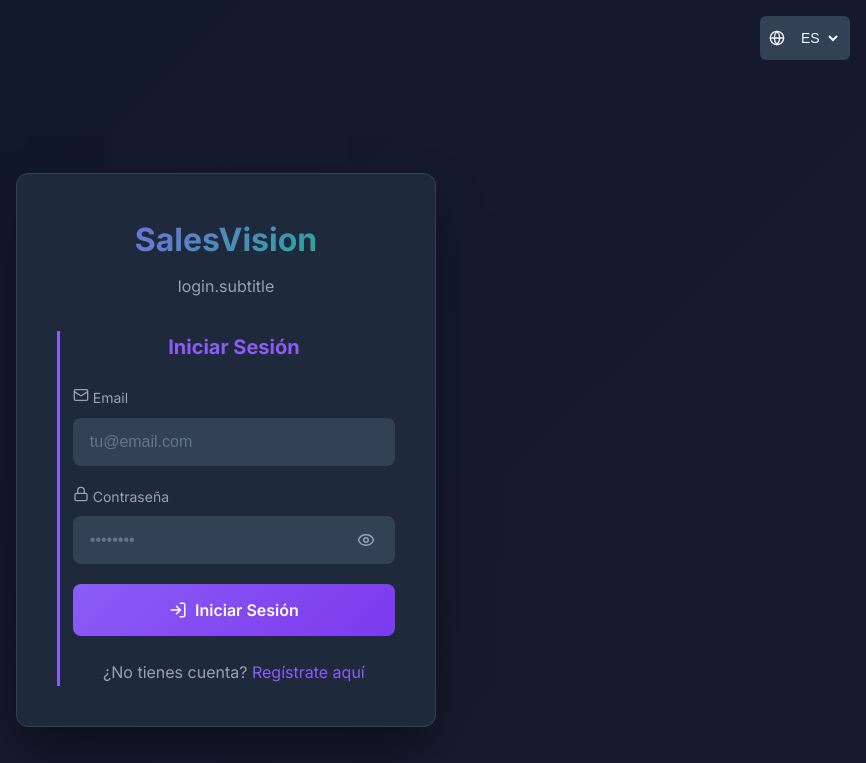
Test: Login Component › cambia entre modo login y registro
Expected: the heading "Iniciar Sesión" is shown, x1=168 y1=335 x2=300 y2=359
What coordinates should you click on to do the following:
click the button "Regístrate aquí"
I would click on:
 (308, 672)
Its box is x1=252 y1=662 x2=365 y2=682.
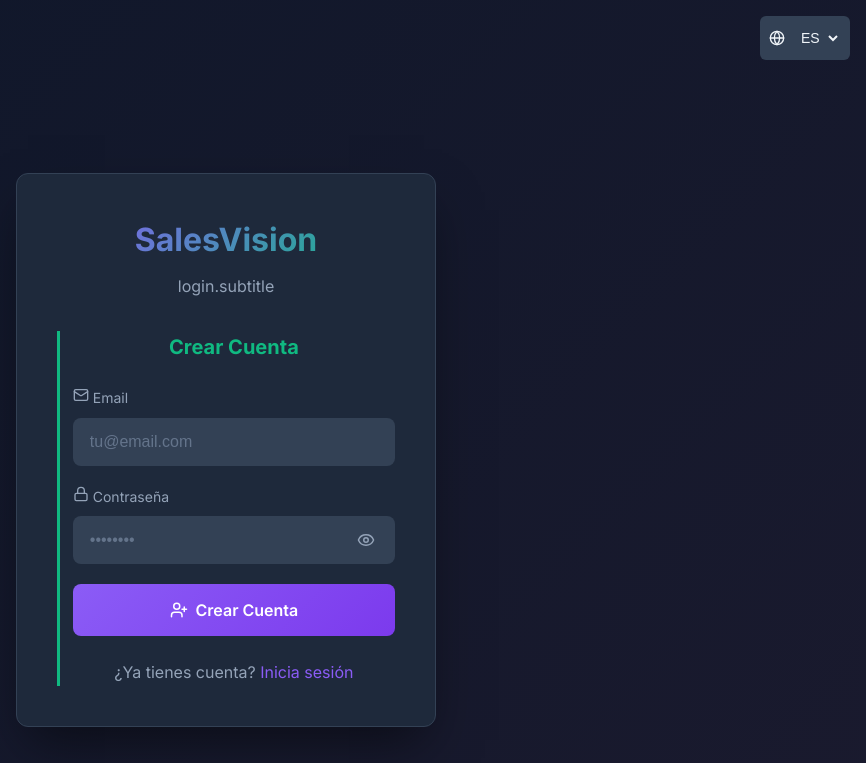
Now the heading "Crear Cuenta" is shown, box x1=169 y1=335 x2=299 y2=359
